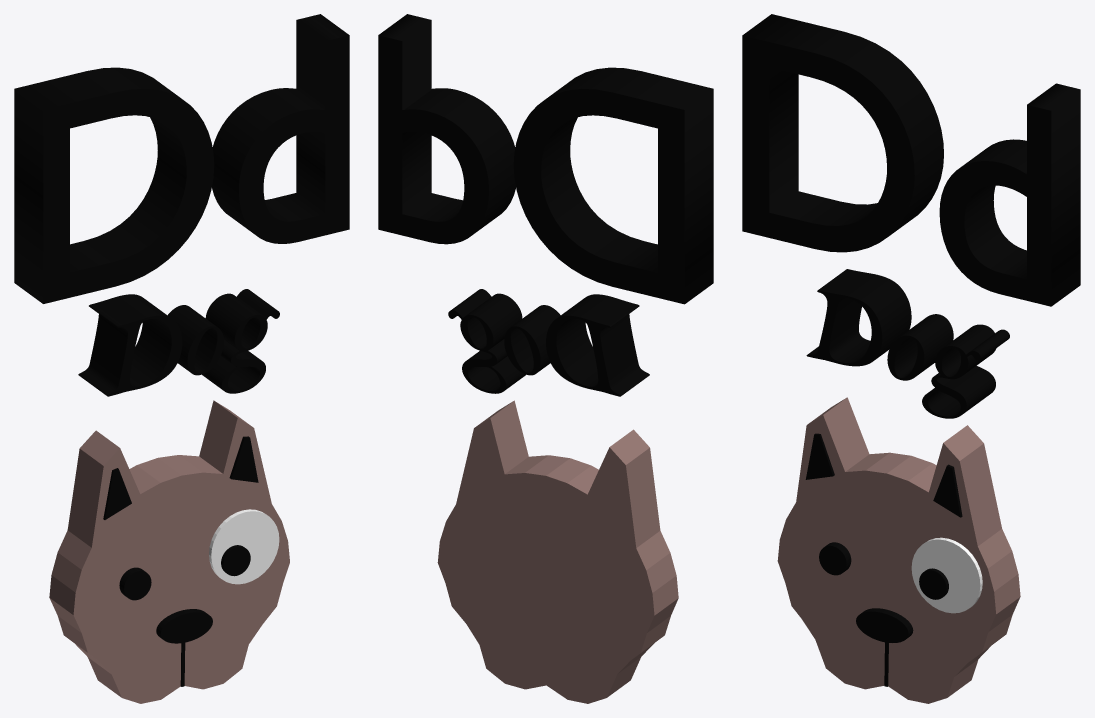
File: Letter_D.glb
3 views of the same model, side by side, from view 1: azimuth 30°, elevation 25°; view 2: azimuth 150°, elevation 25°; view 3: azimuth 330°, elevation 25° (orthographic).
Visible parts, largest first — view 1: Text, Cylinder, Text.001, Cylinder.004, Cylinder.003, Cube.009, Cube.001, Cylinder.001, Cylinder.002; view 2: Text, Cylinder, Text.001; view 3: Text, Cylinder, Text.001, Cylinder.004, Cylinder.003, Cube.009, Cube.001, Cylinder.001, Cylinder.002.
Boxes of the visible parts, left/top/right/bottom form: Text: left=14, top=14, right=349, bottom=303; Cylinder: left=49, top=400, right=289, bottom=703; Text.001: left=78, top=289, right=279, bottom=396; Cylinder.004: left=209, top=509, right=279, bottom=584; Cylinder.003: left=156, top=609, right=212, bottom=643; Cube.009: left=229, top=436, right=258, bottom=482; Cube.001: left=103, top=468, right=131, bottom=519; Cylinder.001: left=119, top=567, right=151, bottom=600; Cylinder.002: left=221, top=545, right=250, bottom=576; Text: left=378, top=14, right=713, bottom=304; Cylinder: left=437, top=400, right=678, bottom=703; Text.001: left=448, top=289, right=649, bottom=396; Text: left=742, top=14, right=1080, bottom=306; Cylinder: left=777, top=397, right=1020, bottom=703; Text.001: left=806, top=269, right=1009, bottom=418; Cylinder.004: left=911, top=537, right=982, bottom=613; Cylinder.003: left=856, top=608, right=913, bottom=642; Cube.009: left=933, top=464, right=962, bottom=517; Cube.001: left=805, top=433, right=834, bottom=479; Cylinder.001: left=819, top=542, right=851, bottom=575; Cylinder.002: left=919, top=568, right=948, bottom=599.
Bounding box in the file's own units: 0.7317 × 1.42 × 0.1299.
